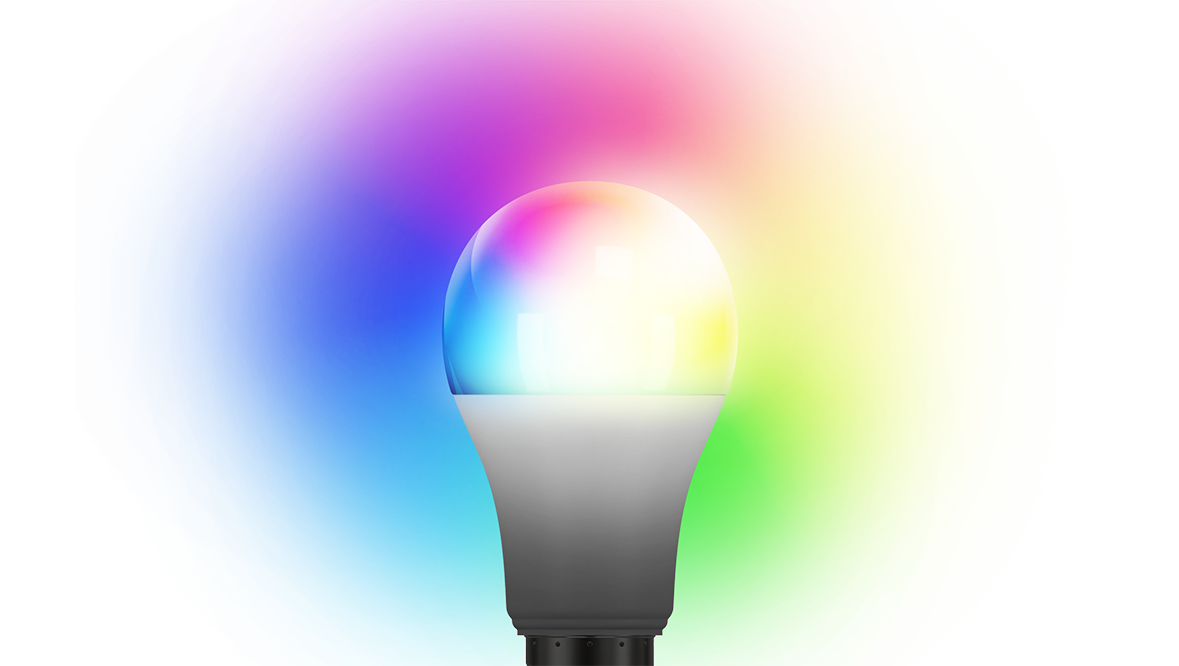Nonrec_Glass: (419, 171, 732, 662)
